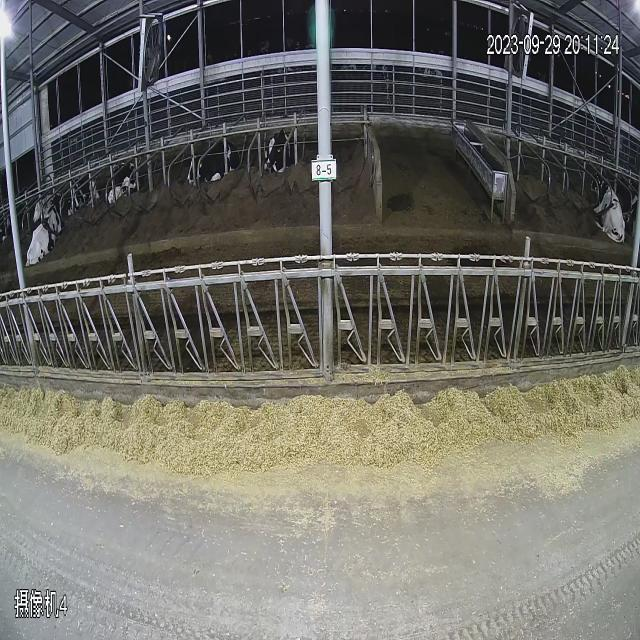lying down: (570, 134, 640, 268), (180, 110, 242, 215), (28, 188, 72, 292), (102, 152, 154, 230), (262, 114, 296, 188)
